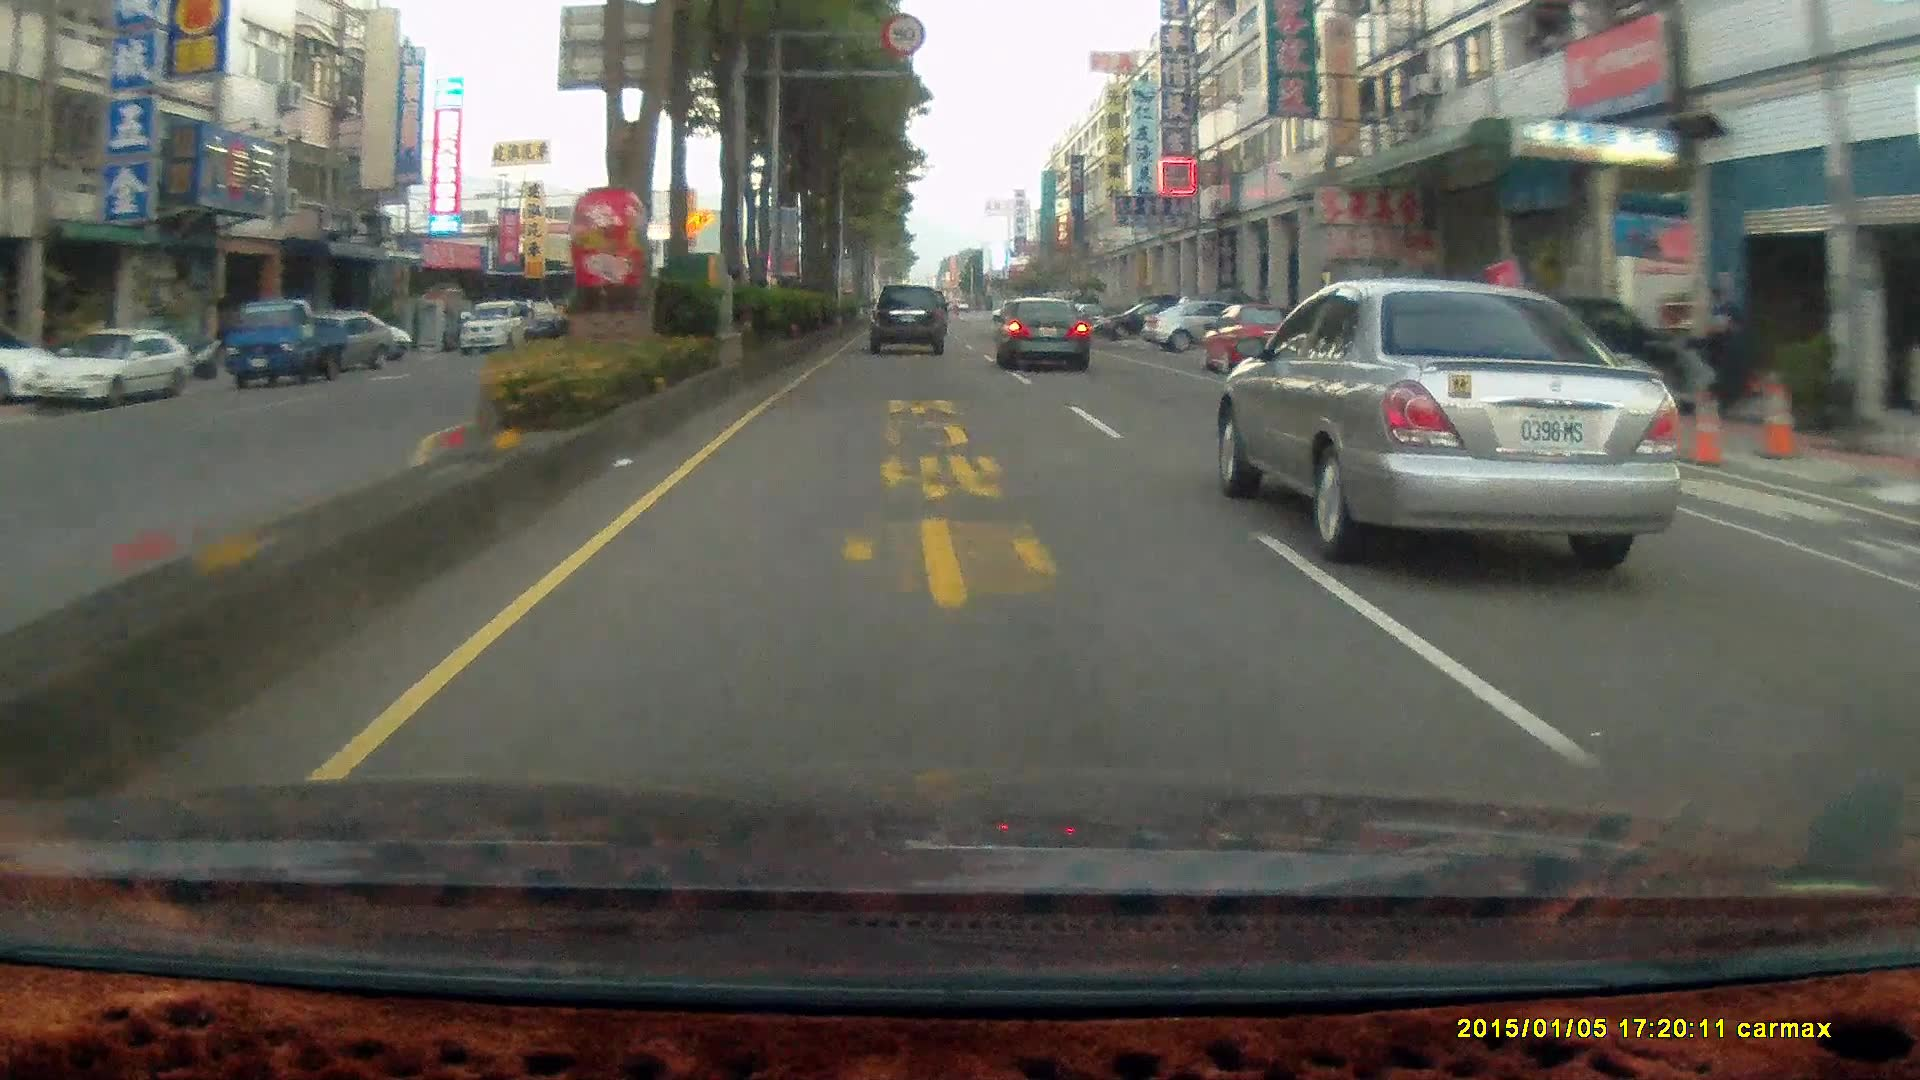vehicle: (1226, 286, 1705, 567), (1457, 291, 1677, 419), (24, 326, 189, 407), (222, 305, 357, 392), (38, 328, 187, 405), (223, 297, 347, 388), (1208, 310, 1316, 389), (1197, 303, 1304, 377), (992, 295, 1091, 373), (996, 301, 1093, 377), (1139, 298, 1269, 353), (280, 313, 392, 372), (868, 284, 949, 359), (865, 282, 945, 352), (0, 328, 57, 401), (1095, 298, 1191, 339), (458, 301, 530, 355)
